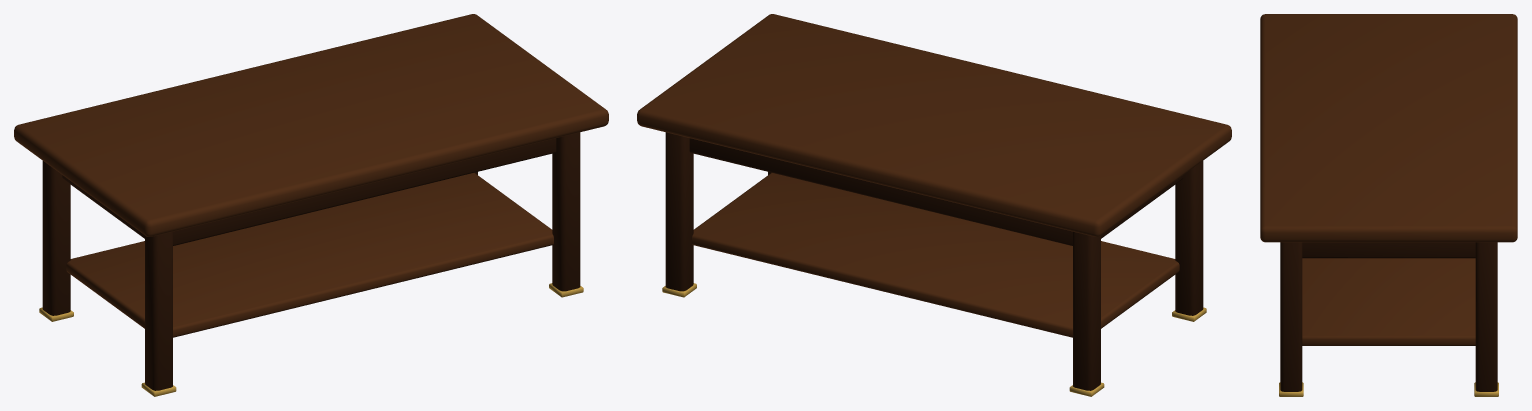
The model's file is frank_coffee_table.glb.
3 renders of one model, left to right at view 1: azimuth 30°, elevation 25°; view 2: azimuth 150°, elevation 25°; view 3: azimuth 270°, elevation 25°, orthographic. The views are drawn at different scales.
Parts seen in each view (by area): view 1: CoffeeTable_TableWalnut, CoffeeTable_TableWalnutDark, CoffeeTable_TableBrass; view 2: CoffeeTable_TableWalnut, CoffeeTable_TableWalnutDark, CoffeeTable_TableBrass; view 3: CoffeeTable_TableWalnut, CoffeeTable_TableWalnutDark, CoffeeTable_TableBrass.
Part boxes in pixels (box(x1,y1,x2,y2)): CoffeeTable_TableWalnut: box(14, 14, 608, 337); CoffeeTable_TableWalnutDark: box(42, 132, 580, 390); CoffeeTable_TableBrass: box(39, 283, 583, 396); CoffeeTable_TableWalnut: box(637, 14, 1231, 337); CoffeeTable_TableWalnutDark: box(665, 132, 1203, 390); CoffeeTable_TableBrass: box(662, 283, 1206, 396); CoffeeTable_TableWalnut: box(1260, 14, 1517, 345); CoffeeTable_TableWalnutDark: box(1280, 242, 1497, 391); CoffeeTable_TableBrass: box(1279, 382, 1498, 396).
Bounding box in the file's own units: 1.15 × 0.44 × 0.58.
